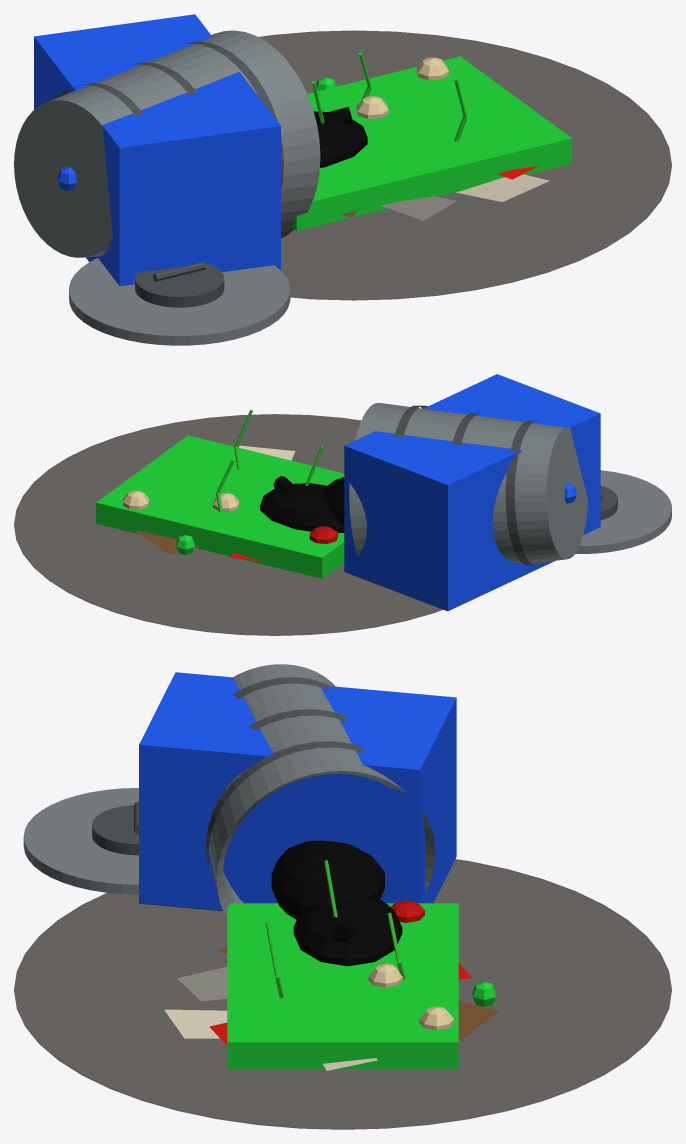
The model's file is SpilledTrashNormalized.obj.
The picture shows the model from 3 angles, top to bottom: view 1: azimuth 30°, elevation 25°; view 2: azimuth 150°, elevation 25°; view 3: azimuth 270°, elevation 25°; orthographic projection. The views are drawn at different scales.
Visible parts, largest first — view 1: tipped_over_trash_can_spill_corrected_open_end; view 2: tipped_over_trash_can_spill_corrected_open_end; view 3: tipped_over_trash_can_spill_corrected_open_end.
Boxes of the visible parts, box(x1,y1,x2,y2) form: tipped_over_trash_can_spill_corrected_open_end: box(14, 14, 671, 345); tipped_over_trash_can_spill_corrected_open_end: box(14, 374, 671, 635); tipped_over_trash_can_spill_corrected_open_end: box(14, 664, 671, 1129).
Bounding box in the file's own units: 3.16 × 0.9397 × 2.7.
